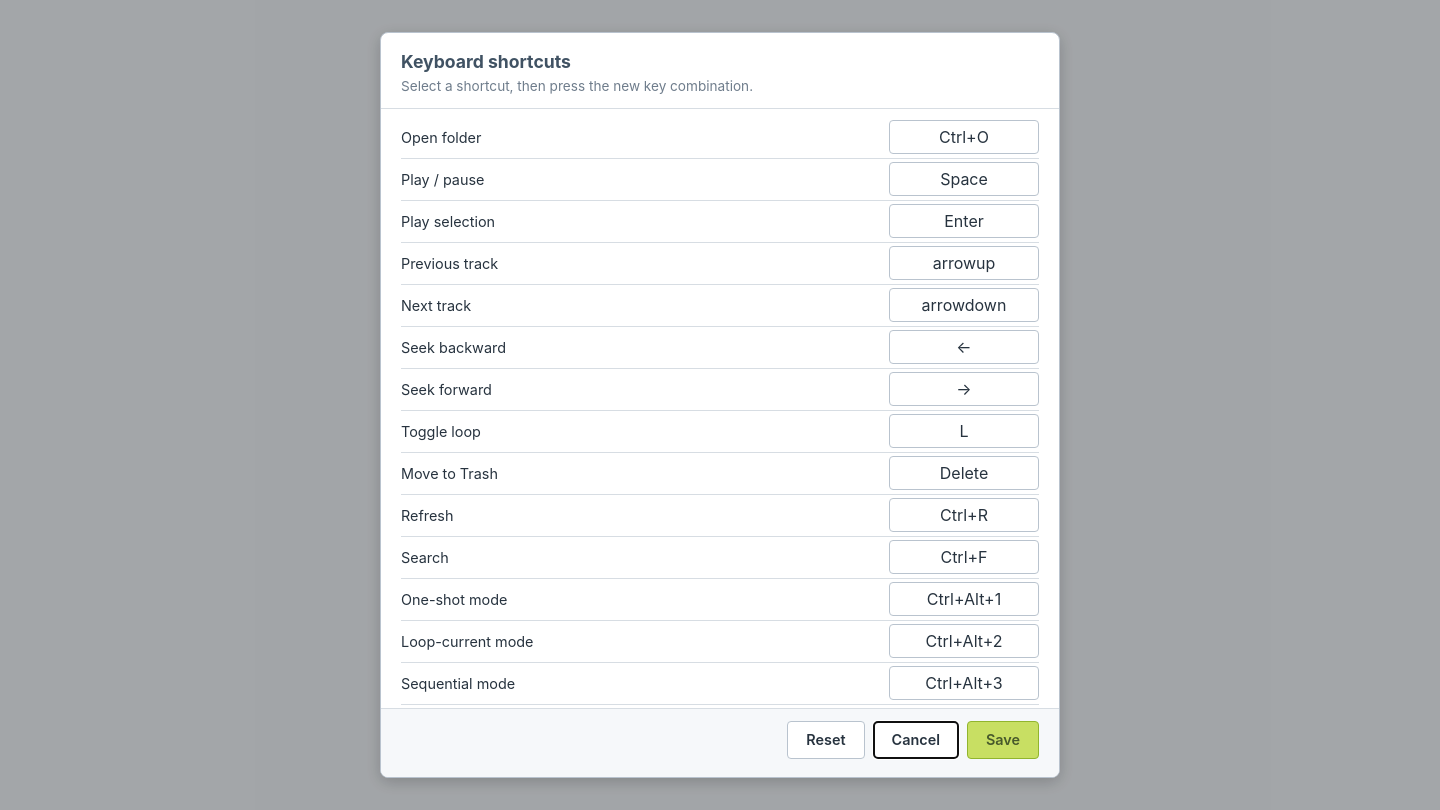
Test: ShortcutEditor › blocks Save with live conflict and reserved-key errors
Click the button with aria-label "change shortcut for open folder": (964, 137) [889,120,1039,154]
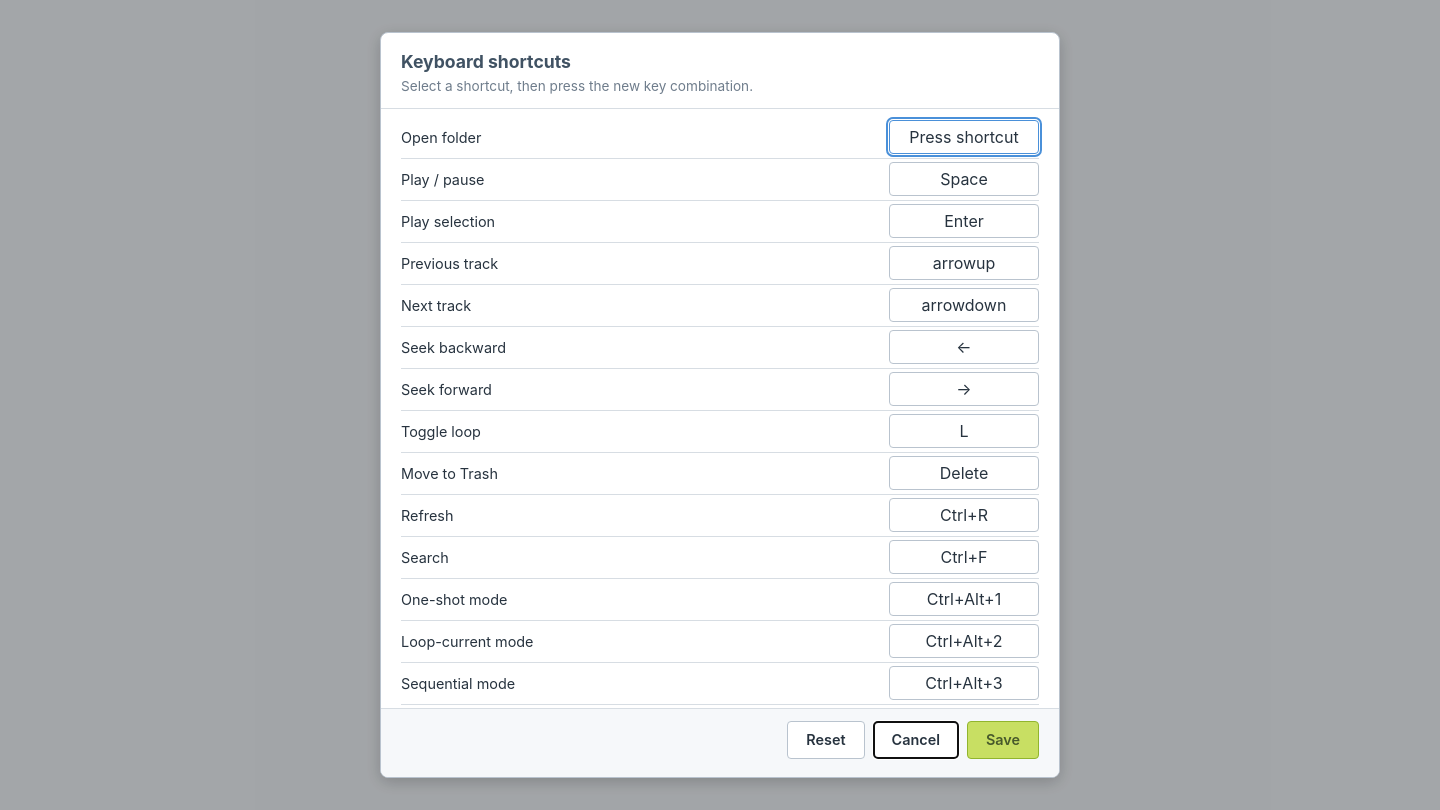
Press f in the button with aria-label "change shortcut for open folder", box [889,120,1039,154]
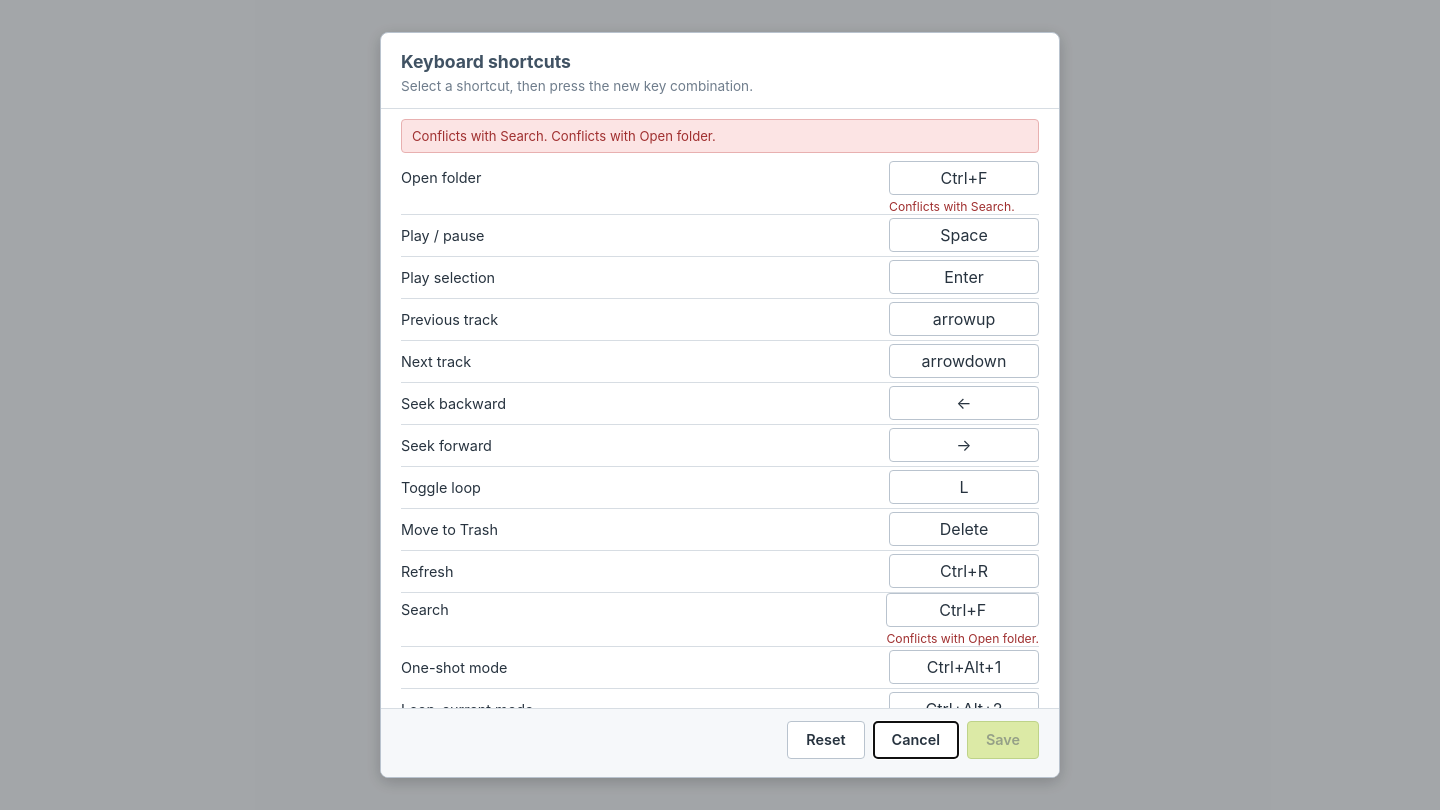
Result: the message shows "Conflicts with Search" at [412,128,716,144]
Result: the button "Save" is disabled at [967,721,1039,759]
Click the button with aria-label "change shortcut for open folder": (964, 178) [889,161,1039,195]
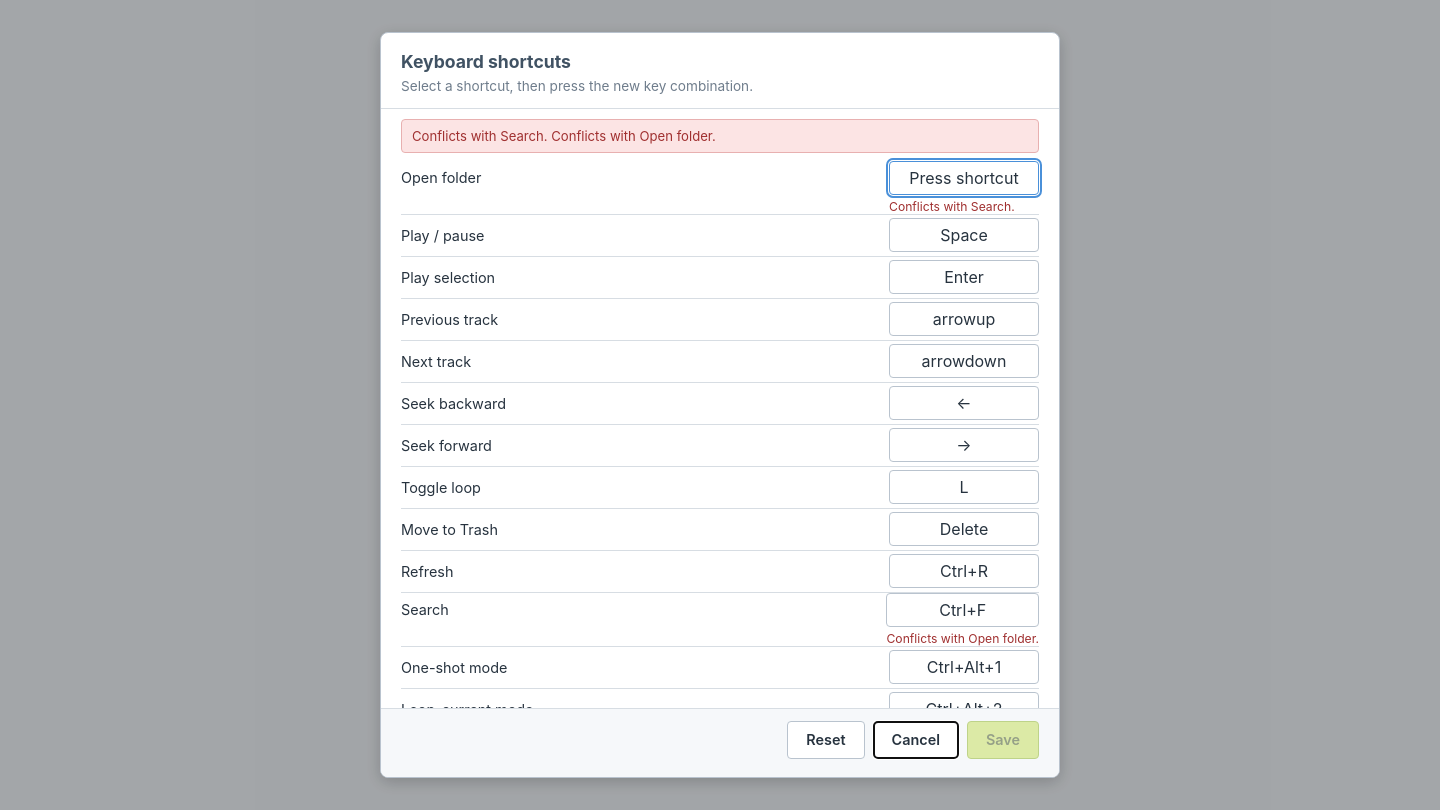
Press F4 in the button with aria-label "change shortcut for open folder", box [889,161,1039,195]
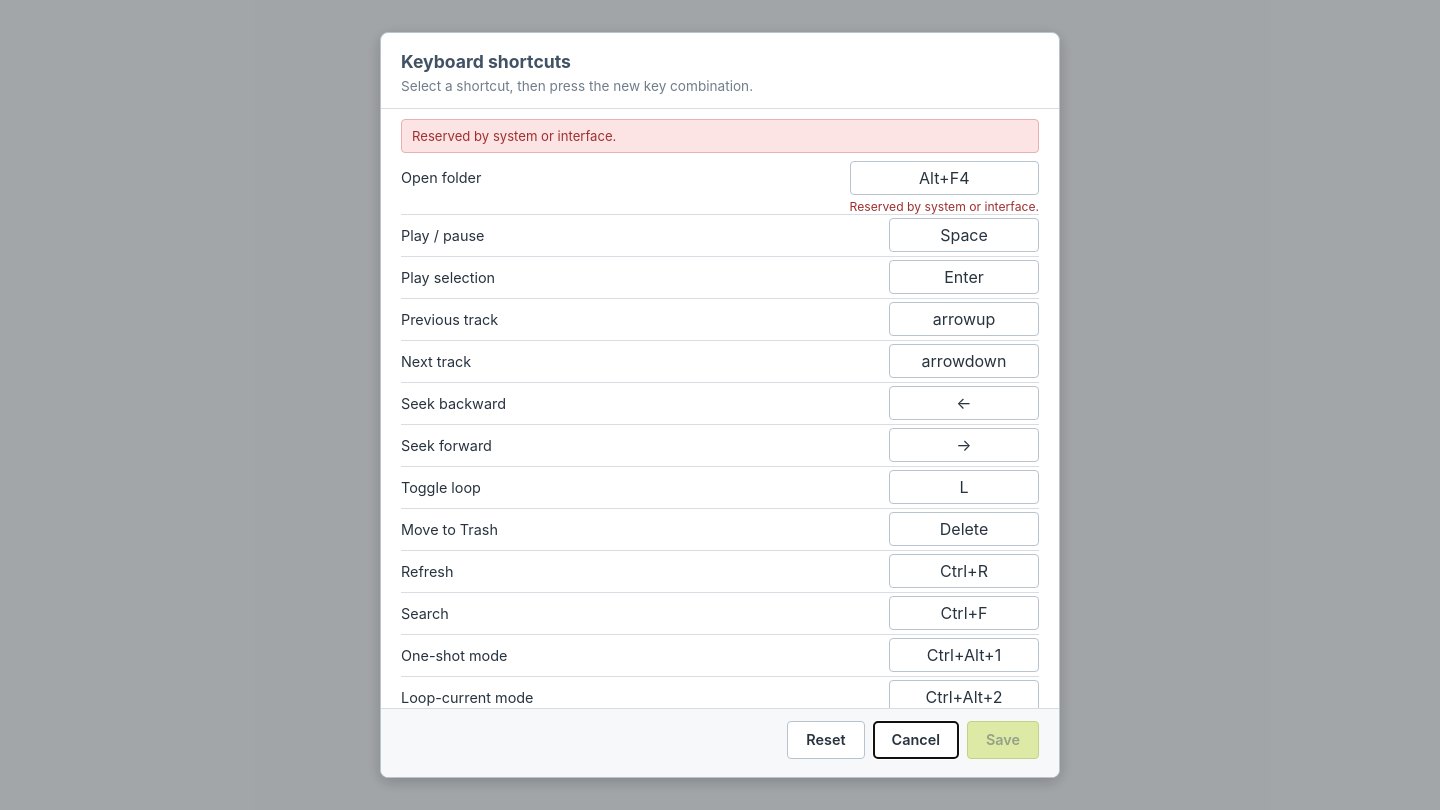
Result: the message shows "Reserved" at [412,128,616,144]
